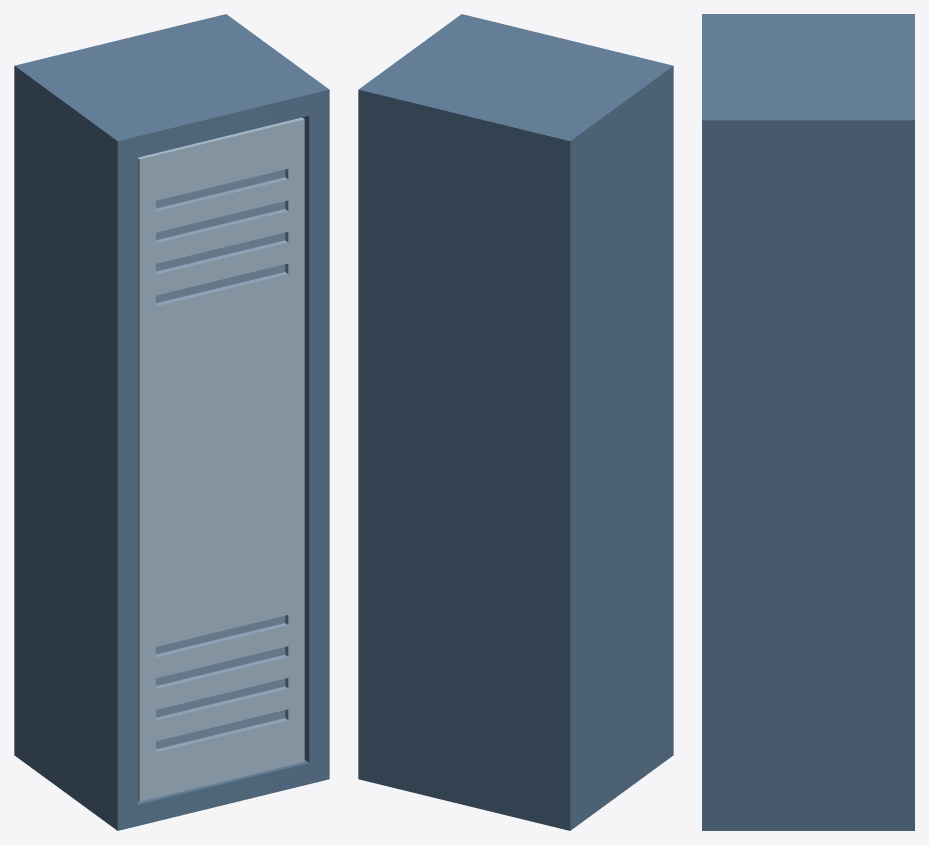
The model's file is close.fbx.
3 renders of one model, left to right at view 1: azimuth 30°, elevation 25°; view 2: azimuth 150°, elevation 25°; view 3: azimuth 270°, elevation 25°, orthographic. The views are drawn at different scales.
Parts seen in each view (by area): view 1: close; view 2: close; view 3: close.
Boxes of the visible parts, bbox=[...] form: close: bbox=[14, 14, 329, 830]; close: bbox=[358, 14, 673, 830]; close: bbox=[702, 14, 914, 830].
Bounding box in the file's own units: 35.2 × 110 × 29.73.
